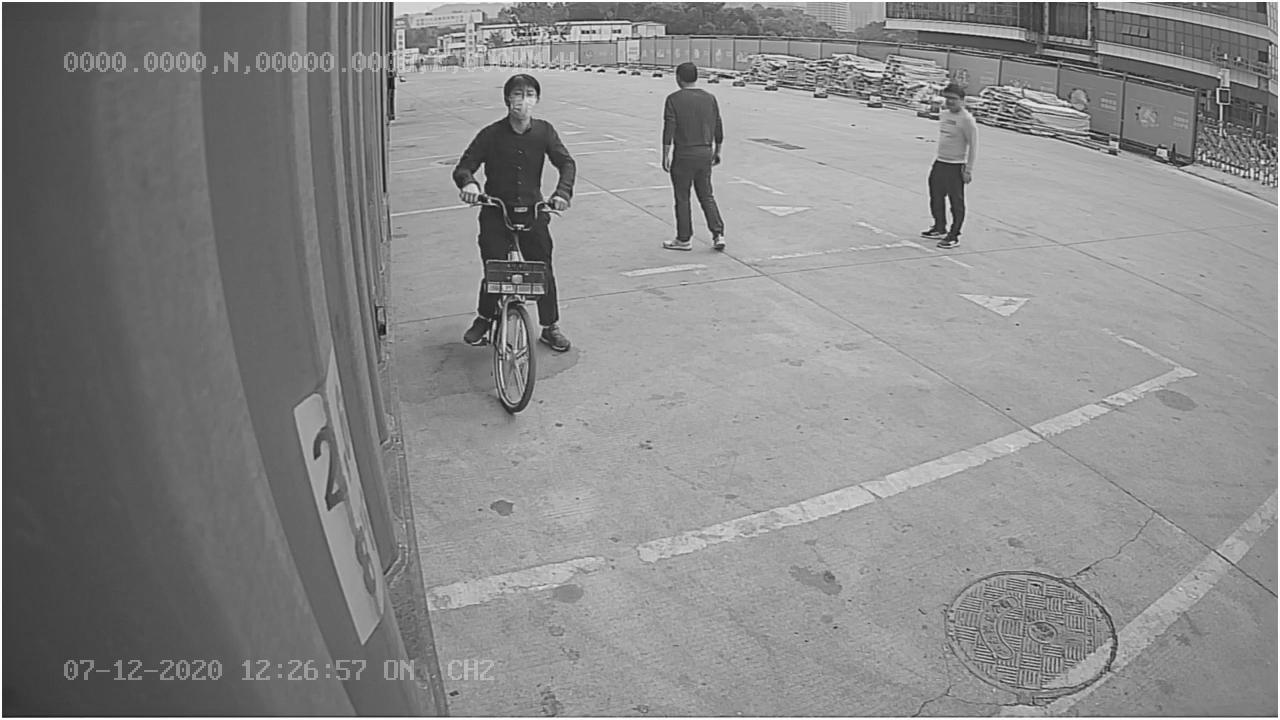person: (653, 60, 736, 252)
